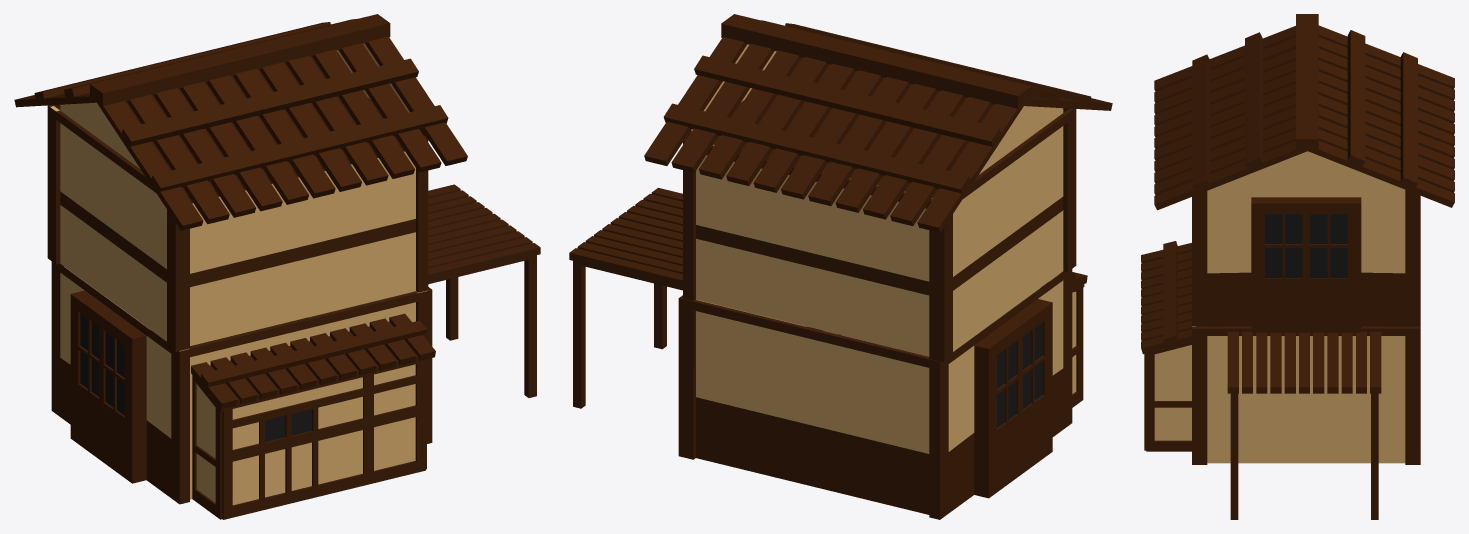
Rendered from house.DAE.
3 renders of one model, left to right at view 1: azimuth 30°, elevation 25°; view 2: azimuth 150°, elevation 25°; view 3: azimuth 270°, elevation 25°, orthographic. The views are drawn at different scales.
Parts seen in each view (by area): view 1: house; view 2: house; view 3: house.
Part boxes in pixels (<box>): house: <box>14,14,540,519</box>; house: <box>569,14,1112,519</box>; house: <box>1141,14,1454,519</box>.
Bounding box in the file's own units: 98.64 × 88 × 75.16.
